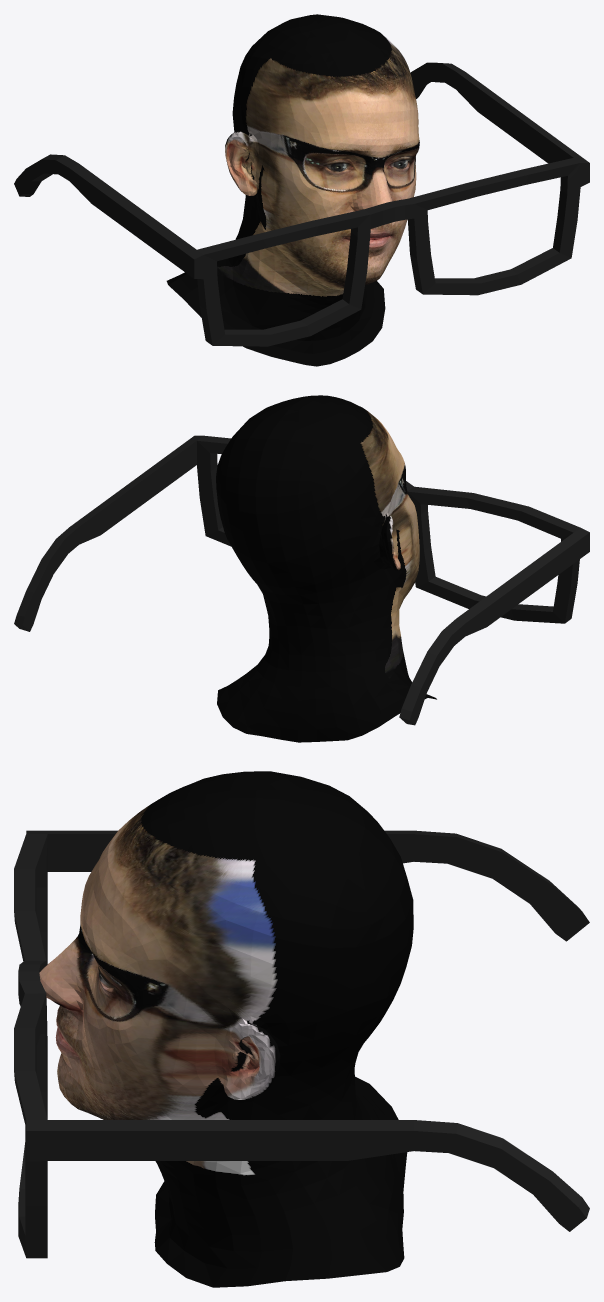
The picture shows the model from 3 angles, top to bottom: view 1: azimuth 30°, elevation 25°; view 2: azimuth 150°, elevation 25°; view 3: azimuth 270°, elevation 25°; orthographic projection. The views are drawn at different scales.
Parts seen in each view (by area): view 1: glasses, Glasses_01_Plane.001; view 2: glasses, Glasses_01_Plane.001; view 3: glasses, Glasses_01_Plane.001.
Part boxes in pixels (box(x1,y1,x2,y2)): glasses: box(166, 14, 419, 366); Glasses_01_Plane.001: box(14, 62, 589, 346); glasses: box(216, 395, 436, 742); Glasses_01_Plane.001: box(14, 435, 589, 725); glasses: box(39, 771, 413, 1287); Glasses_01_Plane.001: box(14, 830, 589, 1258).
Bounding box in the file's own units: 33.04 × 24.51 × 26.79.
